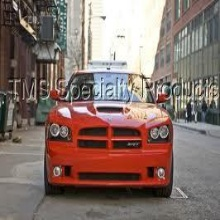no damage: (44, 69, 175, 198)
